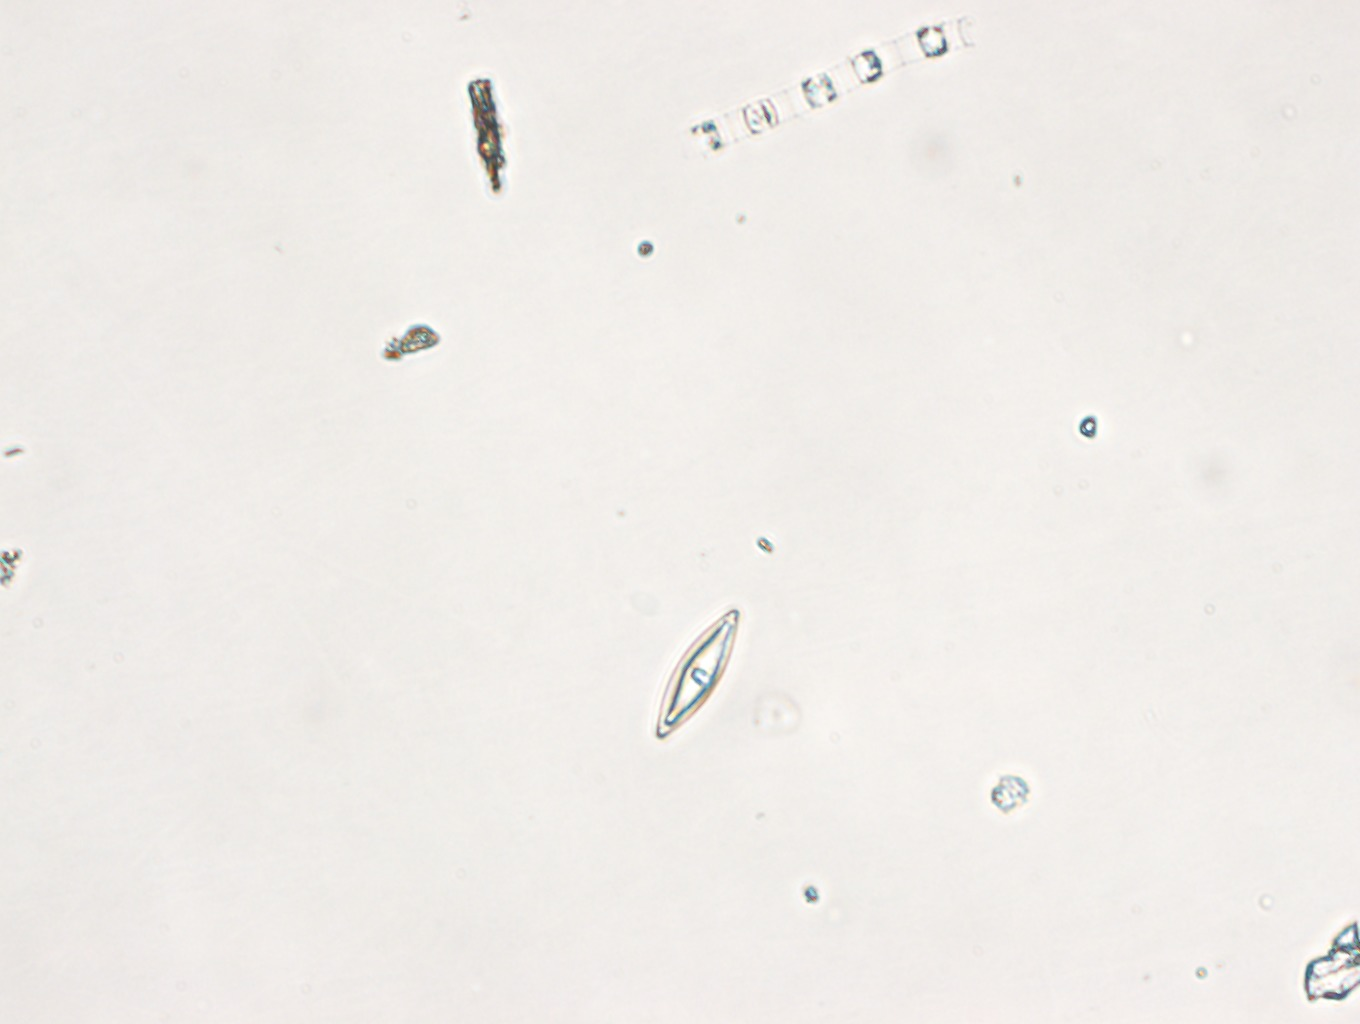navicula: (649, 597, 748, 746)
skeletonema: (674, 3, 994, 181)
